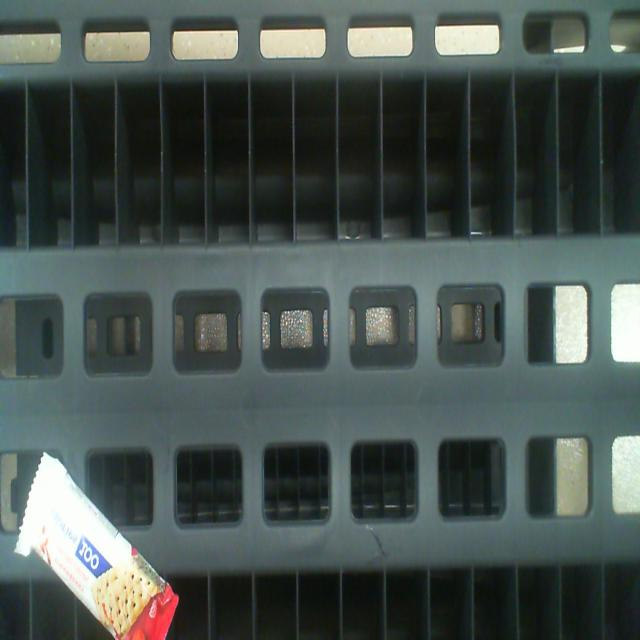snack: (24, 460, 176, 640)
